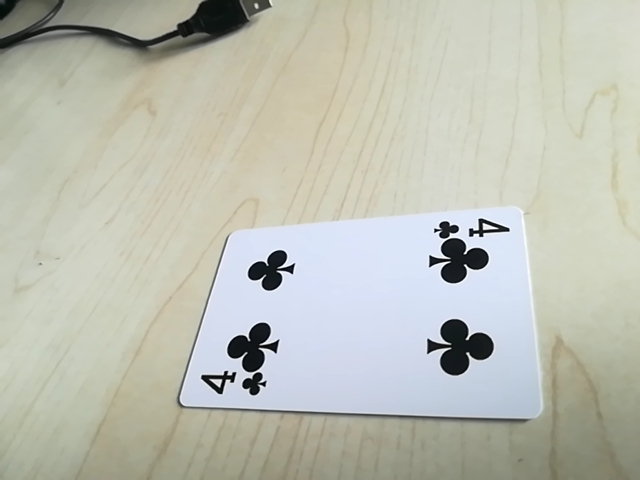mh 4: (192, 367, 271, 401), (430, 213, 511, 243)
